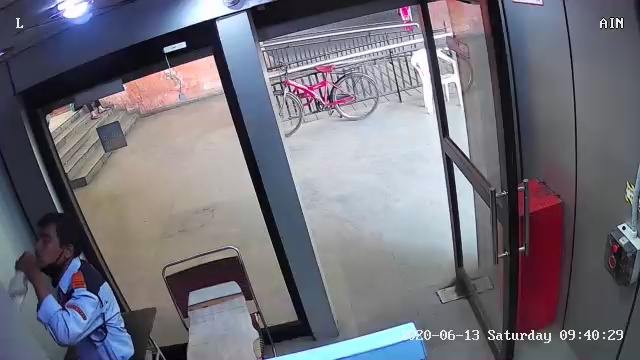open: (402, 3, 554, 354)
